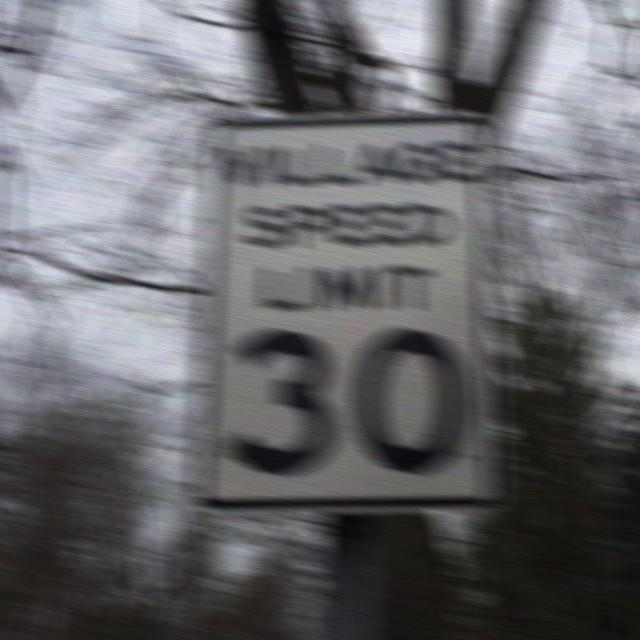speedLimit30: (210, 122, 492, 494)
